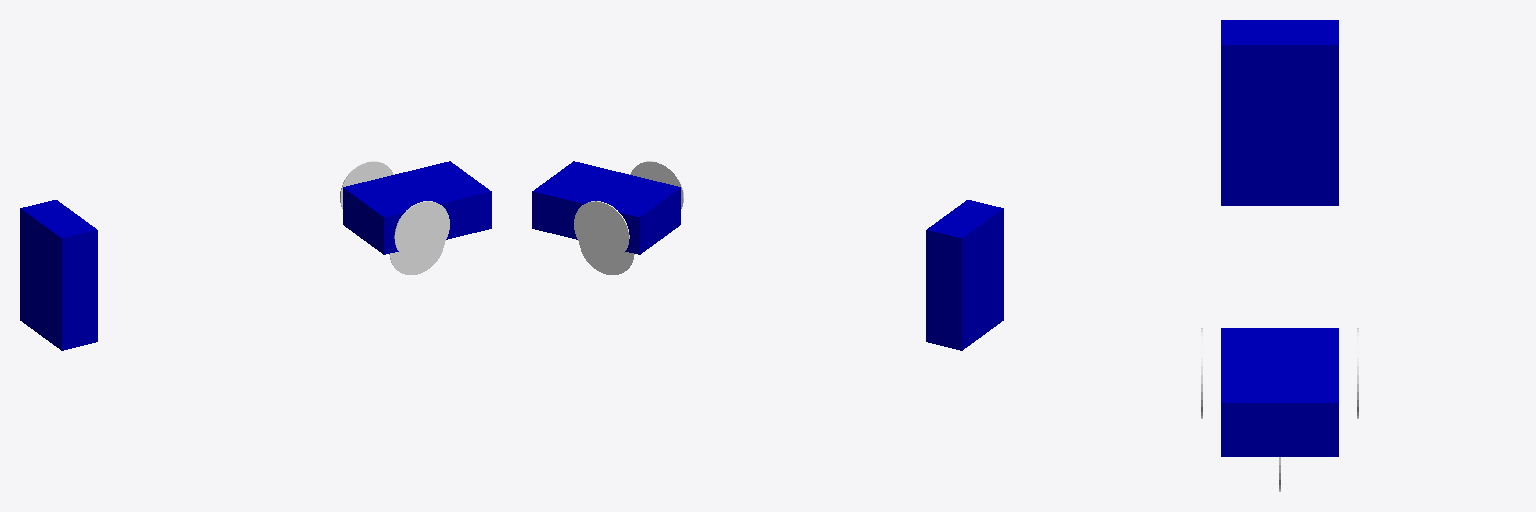
URDF robot description (glide):
<?xml version="1.0" ?>
<!-- =================================================================================== -->
<!-- |    This document was autogenerated by xacro from sim_glide_description.urdf.xacro | -->
<!-- |    EDITING THIS FILE BY HAND IS NOT RECOMMENDED                                 | -->
<!-- =================================================================================== -->
<robot name="glide">
  <material name="blue">
    <color rgba="0 0 0.8 1"/>
  </material>
  <material name="white">
    <color rgba="1 1 1 1"/>
  </material>
  <!-- 4" ~= 0.1 m -->
  <!-- 1 5" ~= 0.0381 m -->
  <!-- 1 1/4" ~= 0.03175 m -->
  <!-- <link name="steer_bar_link">
      <visual>
        <geometry>
          <cylinder length="0.4" radius="${bar_radius}"/>
        </geometry>
        <origin rpy="${degrees_45} -${degrees_45} -${degrees_55}" xyz="0 0 0"/>
        <material name="white"/>
      </visual>
      <collision> 
        <origin rpy="${degrees_45} 0 0" xyz="0 0 0"/>
        <geometry> 
          <cylinder length="0.4" radius="${bar_radius}"/>
        </geometry> 
      </collision>
  </link>
  <joint name="steer_bar_joint" type="revolute">
    <limit lower="-0.2" upper="0.2" effort="100" velocity="0.1"/>
      <origin rpy="0 0 0" xyz="-${1.8*body_width} 0 ${body_length/1.1}"/>
      <parent link="base_link"/>
      <child link="steer_bar_link"/>
      <axis xyz="0 1 0"/>
    </joint> -->
  <link name="base_link">
    <visual>
      <geometry>
        <box size="0.3 0.2 0.1"/>
      </geometry>
      <origin rpy="0 0 0" xyz="0 0 0.1"/>
      <material name="blue"/>
    </visual>
  </link>
  <gazebo reference="base_link">
    <material>Gazebo/Blue</material>
  </gazebo>
  <link name="front_right_wheel">
    <visual>
      <geometry>
        <cylinder length="0.003" radius="0.077"/>
      </geometry>
      <origin rpy="0 0 0" xyz="0 0 0"/>
      <material name="white"/>
    </visual>
    <collision>
      <origin rpy="0 0 0" xyz="0 0 0"/>
      <geometry>
        <cylinder length="0.003" radius="0.077"/>
      </geometry>
    </collision>
    <inertial>
      <origin rpy="0 0 0" xyz="0 0 0"/>
      <mass value="5.0"/>
      <!--<cylinder_inertia m="0.2" r="0.3" h="0.1"/> -->
      <!-- <cylinder_inirtia m="${mass}" r="${radius}" h="${width}" /> -->
      <inertia ixx="7.90866056" ixy="0.00000006" ixz="0" iyy="7.90866056" iyz="0" izz="2.48398783"/>
    </inertial>
  </link>
  <gazebo reference="$front_{name}_wheel">
    <material>Gazebo/White</material>
  </gazebo>
  <joint name="front_right_wheel_joint" type="revolute">
    <limit effort="100" lower="-0.6" upper="0.6" velocity="1"/>
    <origin rpy="1.5707963267948966 0 3.141592653589793" xyz="-0.061900000000000004 -0.13175 0.107"/>
    <parent link="base_link"/>
    <child link="front_right_wheel"/>
    <axis xyz="0 1 0"/>
    <axis2 xyz="0 0 1"/>
  </joint>
  <link name="front_left_wheel">
    <visual>
      <geometry>
        <cylinder length="0.003" radius="0.077"/>
      </geometry>
      <origin rpy="0 0 0" xyz="0 0 0"/>
      <material name="white"/>
    </visual>
    <collision>
      <origin rpy="0 0 0" xyz="0 0 0"/>
      <geometry>
        <cylinder length="0.003" radius="0.077"/>
      </geometry>
    </collision>
    <inertial>
      <origin rpy="0 0 0" xyz="0 0 0"/>
      <mass value="5.0"/>
      <!--<cylinder_inertia m="0.2" r="0.3" h="0.1"/> -->
      <!-- <cylinder_inirtia m="${mass}" r="${radius}" h="${width}" /> -->
      <inertia ixx="7.90866056" ixy="0.00000006" ixz="0" iyy="7.90866056" iyz="0" izz="2.48398783"/>
    </inertial>
  </link>
  <gazebo reference="$front_{name}_wheel">
    <material>Gazebo/White</material>
  </gazebo>
  <joint name="front_left_wheel_joint" type="revolute">
    <limit effort="100" lower="-0.6" upper="0.6" velocity="1"/>
    <origin rpy="1.5707963267948966 0 3.141592653589793" xyz="-0.061900000000000004 0.13175 0.107"/>
    <parent link="base_link"/>
    <child link="front_left_wheel"/>
    <axis xyz="0 1 0"/>
    <axis2 xyz="0 0 1"/>
  </joint>
  <link name="rear_right_wheel">
    <visual>
      <geometry>
        <cylinder length="0.003" radius="0.077"/>
      </geometry>
      <origin rpy="0 0 0" xyz="0 0 0"/>
      <material name="white"/>
    </visual>
    <collision>
      <origin rpy="0 0 0" xyz="0 0 0"/>
      <geometry>
        <cylinder length="0.003" radius="0.077"/>
      </geometry>
    </collision>
    <inertial>
      <origin rpy="0 0 0" xyz="0 0 0"/>
      <mass value="5.0"/>
      <!--<cylinder_inertia m="0.2" r="0.3" h="0.1"/> -->
      <!-- <cylinder_inirtia m="${mass}" r="${radius}" h="${width}" /> -->
      <inertia ixx="7.90866056" ixy="0.00000006" ixz="0" iyy="7.90866056" iyz="0" izz="2.48398783"/>
    </inertial>
  </link>
  <joint name="rear_right_wheel_joint" type="continuous">
    <origin rpy="1.5707963267948966 0 3.141592653589793" xyz="0 0 0"/>
    <parent link="base_link"/>
    <child link="rear_right_wheel"/>
    <axis xyz="0 0 1"/>
  </joint>
  <link name="rear_left_wheel">
    <visual>
      <geometry>
        <cylinder length="0.003" radius="0.077"/>
      </geometry>
      <origin rpy="0 0 0" xyz="0 0 0"/>
      <material name="white"/>
    </visual>
    <collision>
      <origin rpy="0 0 0" xyz="0 0 0"/>
      <geometry>
        <cylinder length="0.003" radius="0.077"/>
      </geometry>
    </collision>
    <inertial>
      <origin rpy="0 0 0" xyz="0 0 0"/>
      <mass value="5.0"/>
      <!--<cylinder_inertia m="0.2" r="0.3" h="0.1"/> -->
      <!-- <cylinder_inirtia m="${mass}" r="${radius}" h="${width}" /> -->
      <inertia ixx="7.90866056" ixy="0.00000006" ixz="0" iyy="7.90866056" iyz="0" izz="2.48398783"/>
    </inertial>
  </link>
  <joint name="rear_left_wheel_joint" type="continuous">
    <origin rpy="1.5707963267948966 0 3.141592653589793" xyz="0 0 0"/>
    <parent link="base_link"/>
    <child link="rear_left_wheel"/>
    <axis xyz="0 0 1"/>
  </joint>
  <link name="camera_bottom_screw_frame">
    <visual>
      <geometry>
        <box size="0.02505 0.090 0.025"/>
      </geometry>
    </visual>
    <collision>
      <geometry>
        <box size="0.02505 0.090 0.025"/>
      </geometry>
    </collision>
  </link>
  <link name="camera_link"/>
  <link name="camera_depth_frame"/>
  <link name="camera_depth_optical_frame"/>
  <link name="camera_color_frame"/>
  <link name="camera_color_optical_frame"/>
  <link name="camera_left_ir_frame"/>
  <link name="camera_left_ir_optical_frame"/>
  <link name="camera_right_ir_frame"/>
  <link name="camera_right_ir_optical_frame"/>
  <joint name="camera_joint" type="fixed">
    <parent link="base_link"/>
    <child link="camera_bottom_screw_frame"/>
    <pose rpy="0 0 0" xyz="0.4 0 0.25"/>
  </joint>
  <joint name="camera_link_joint" type="fixed">
    <parent link="camera_bottom_screw_frame"/>
    <child link="camera_link"/>
    <pose rpy="0 0 0" xyz="0 0.0175 0.0125 "/>
  </joint>
  <joint name="camera_depth_joint" type="fixed">
    <parent link="camera_link"/>
    <child link="camera_depth_frame"/>
    <pose rpy="0 0 0" xyz="0 0 0"/>
  </joint>
  <joint name="camera_depth_optical_joint" type="fixed">
    <parent link="camera_depth_frame"/>
    <child link="camera_depth_optical_frame"/>
    <pose rpy="-1.57 0 -1.57" xyz="0 0 0 "/>
  </joint>
  <joint name="camera_color_joint" type="fixed">
    <parent link="camera_depth_frame"/>
    <child link="camera_color_frame"/>
    <pose rpy="0 0 0" xyz="0 0 0"/>
  </joint>
  <joint name="camera_color_optical_joint" type="fixed">
    <parent link="camera_color_frame"/>
    <child link="camera_color_optical_frame"/>
    <pose rpy="-1.57 0 -1.57" xyz="0 0 0 "/>
  </joint>
  <joint name="camera_left_ir_joint" type="fixed">
    <parent link="camera_depth_frame"/>
    <child link="camera_left_ir_frame"/>
    <pose rpy="0 0 0 " xyz="0 0 0 "/>
  </joint>
  <joint name="camera_left_ir_optical_joint" type="fixed">
    <parent link="camera_left_ir_frame"/>
    <child link="camera_left_ir_optical_frame"/>
    <pose rpy="-1.57 0 -1.57" xyz="0 0 0 "/>
  </joint>
  <joint name="camera_right_ir_joint" type="fixed">
    <parent link="camera_depth_frame"/>
    <child link="camera_right_ir_frame"/>
    <pose rpy="0 0 0" xyz="0 -0.050 0 "/>
  </joint>
  <joint name="camera_right_ir_optical_joint" type="fixed">
    <parent link="camera_right_ir_frame"/>
    <child link="camera_right_ir_optical_frame"/>
    <pose rpy="-1.57 0 -1.57" xyz="0 0 0 "/>
  </joint>
  <link name="human_link">
    <visual>
      <geometry>
        <box size="0.3 0.2 0.1"/>
      </geometry>
      <material name="blue"/>
    </visual>
  </link>
  <joint name="base_to_human" type="fixed">
    <origin rpy="0 1.5707963267948966 0" xyz="-1.0 0.0 0.154"/>
    <parent link="base_link"/>
    <child link="human_link"/>
  </joint>
</robot>

--- What the picture shows (computed from the rendered views, not written in the file) ---
The picture shows the robot from 3 angles, left to right: view 1: azimuth 30°, elevation 25°; view 2: azimuth 150°, elevation 25°; view 3: azimuth 270°, elevation 25°; orthographic projection.
Model glide with 16 links and 15 joints (2 revolute, 2 continuous, 11 fixed), rooted at base_link, posed all joints at 0.
Links seen in each view (by area): view 1: human_link, base_link, front_right_wheel, front_left_wheel, rear_right_wheel; view 2: human_link, base_link, front_left_wheel, front_right_wheel, rear_right_wheel; view 3: human_link, base_link.
Link boxes in pixels (<box>): human_link: <box>20,200,97,350</box>; base_link: <box>343,161,491,254</box>; front_right_wheel: <box>394,201,449,260</box>; front_left_wheel: <box>340,161,393,208</box>; rear_right_wheel: <box>389,243,444,274</box>; human_link: <box>926,200,1003,350</box>; base_link: <box>532,161,680,254</box>; front_left_wheel: <box>574,201,629,260</box>; front_right_wheel: <box>630,161,683,208</box>; rear_right_wheel: <box>579,243,634,274</box>; human_link: <box>1221,20,1338,205</box>; base_link: <box>1221,328,1338,456</box>.
Bounding box of the posed robot: 1.2 × 0.2665 × 0.381 m (x, y, z).
Geometry: primitives only (box / cylinder / sphere), no mesh files.
